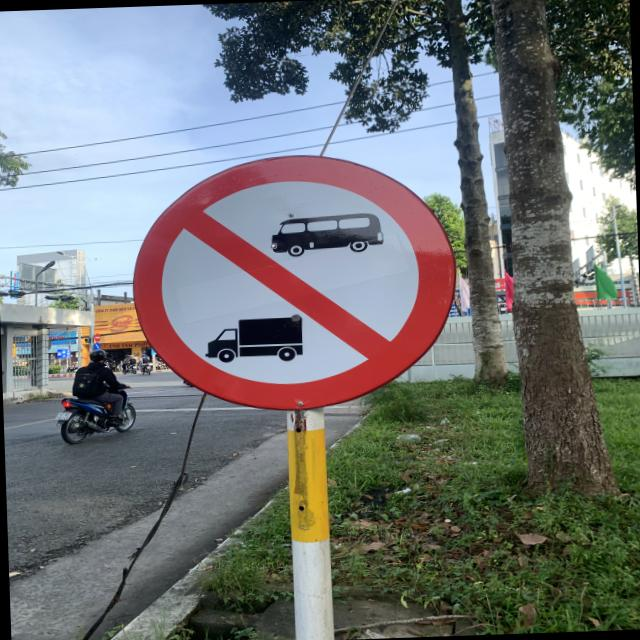Cam_XeTai_XeKhach: (128, 149, 461, 417)
